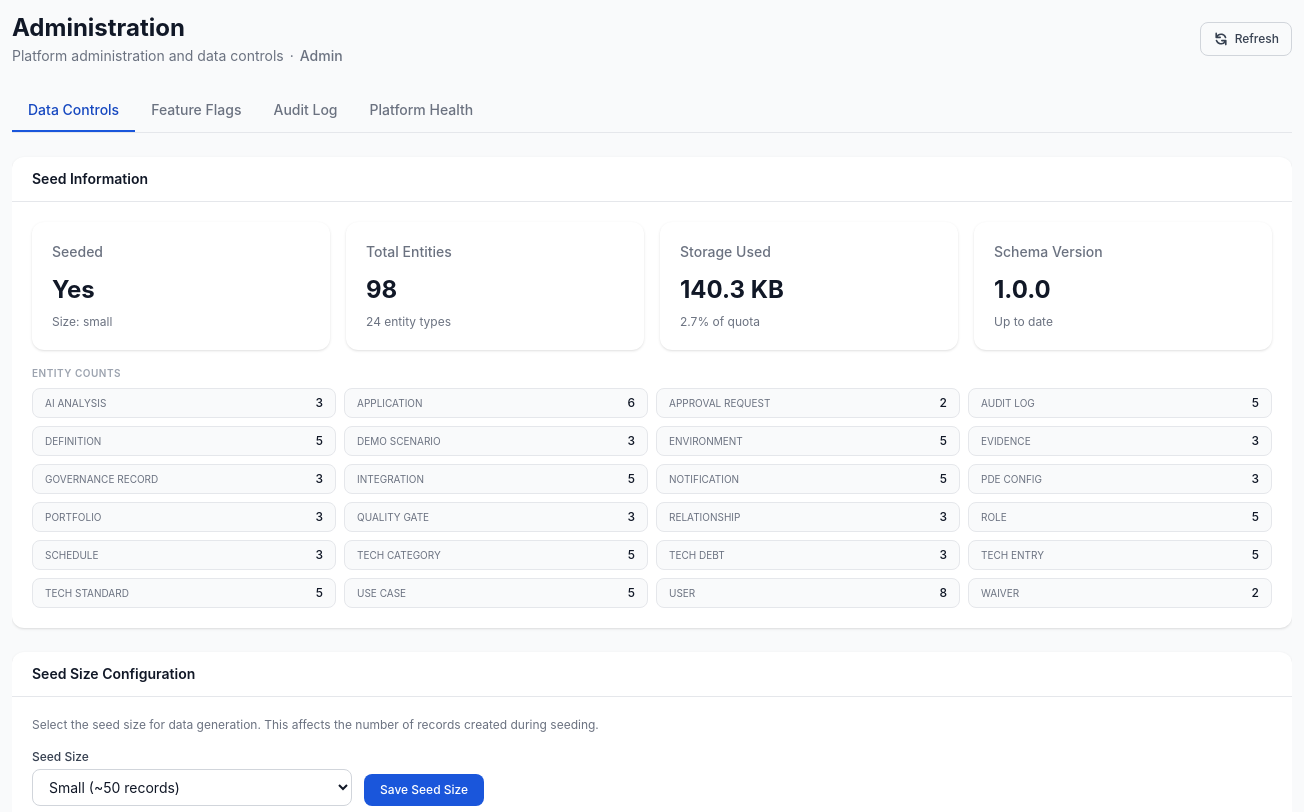
Test case: AdministrationPage › Feature Flags tab › shows success message after toggling a flag
Click the tab "Feature Flags" at (196, 111), box top-left (135, 90), bottom-right (258, 132)
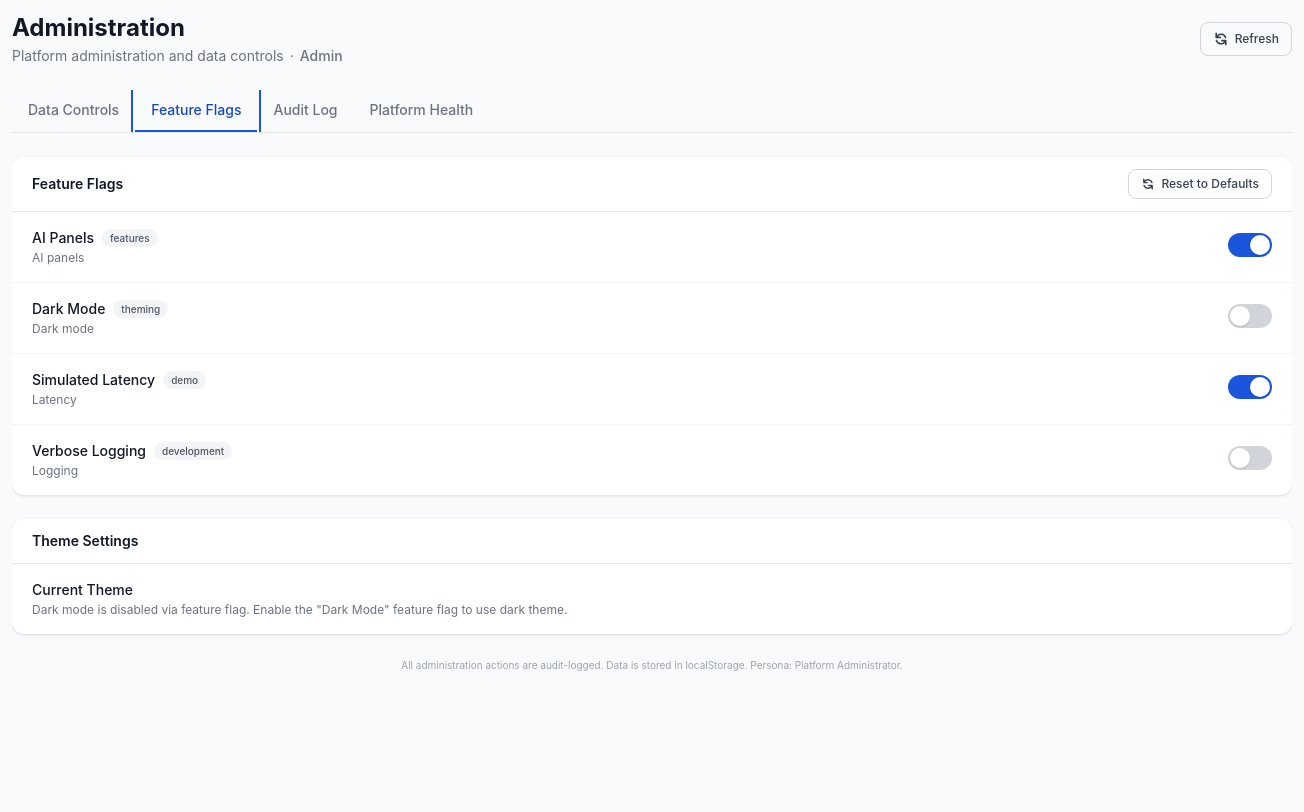
Click the switch named "Toggle Dark Mode" at (1250, 316), box top-left (1228, 304), bottom-right (1272, 328)
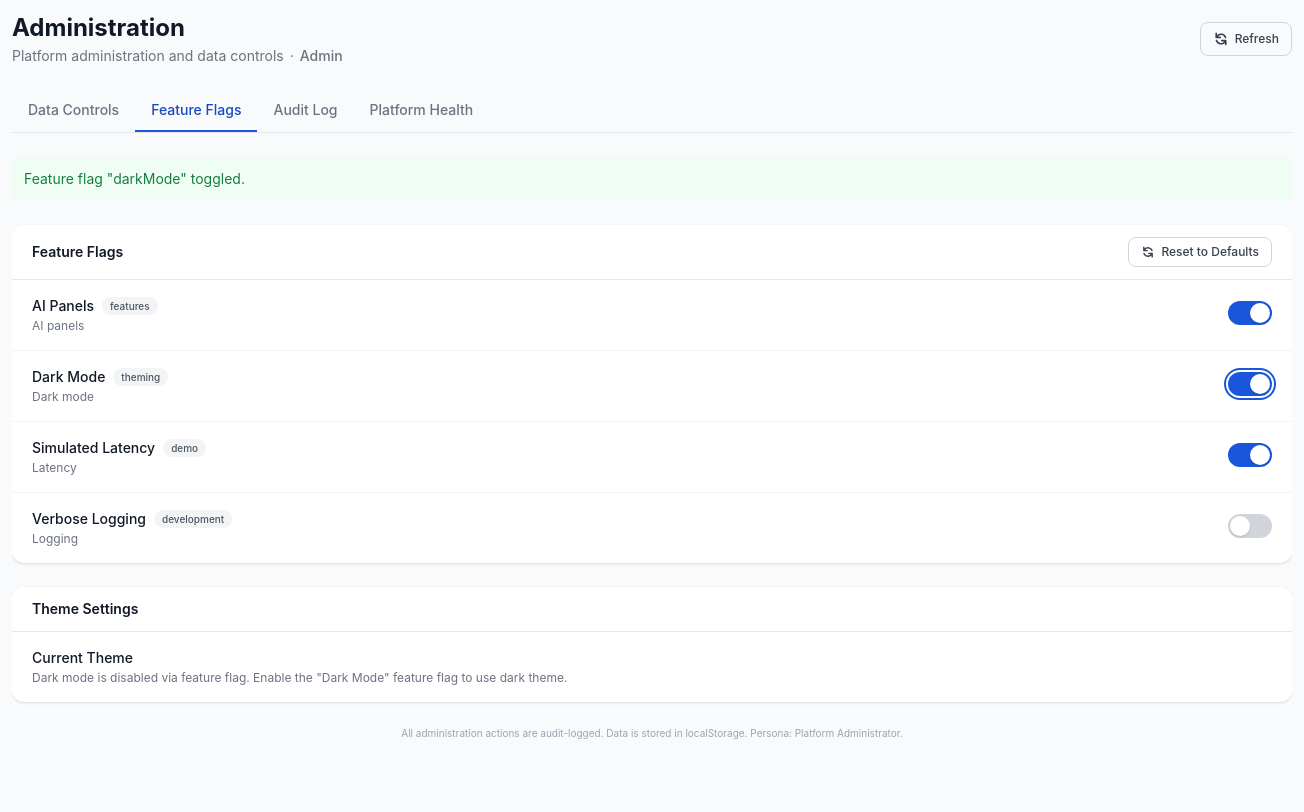
Check: the message "Feature flag \"darkMode\" toggled." is shown, box top-left (12, 157), bottom-right (1292, 201)
Check: the message shows "toggled", box top-left (24, 170), bottom-right (245, 187)
